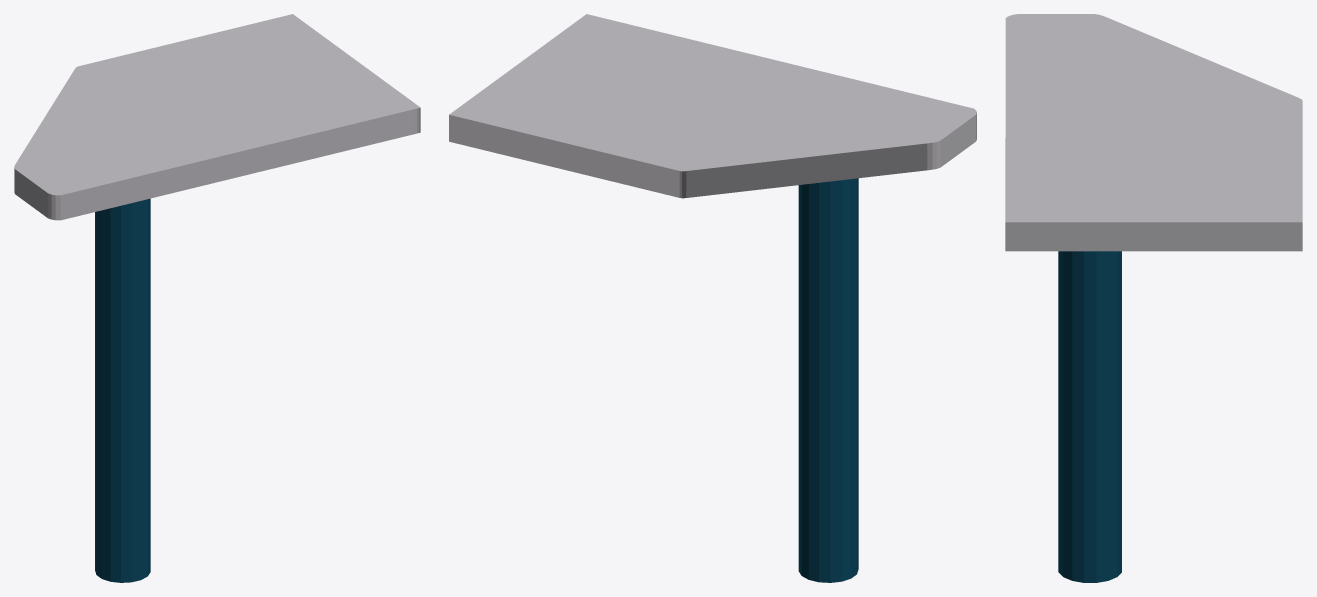
Rendered from Level2TableSection.fbx.
The picture shows the model from 3 angles, left to right: view 1: azimuth 30°, elevation 25°; view 2: azimuth 150°, elevation 25°; view 3: azimuth 270°, elevation 25°; orthographic projection. The views are drawn at different scales.
Parts seen in each view (by area): view 1: NEWTableLeft; view 2: NEWTableLeft; view 3: NEWTableLeft.
Part boxes in pixels (x1,y1,x2,y2): NEWTableLeft: [14, 14, 420, 582]; NEWTableLeft: [449, 14, 976, 582]; NEWTableLeft: [1005, 14, 1302, 582].
Size of the model in its own units: 75.97 by 84.3 by 45.82.
